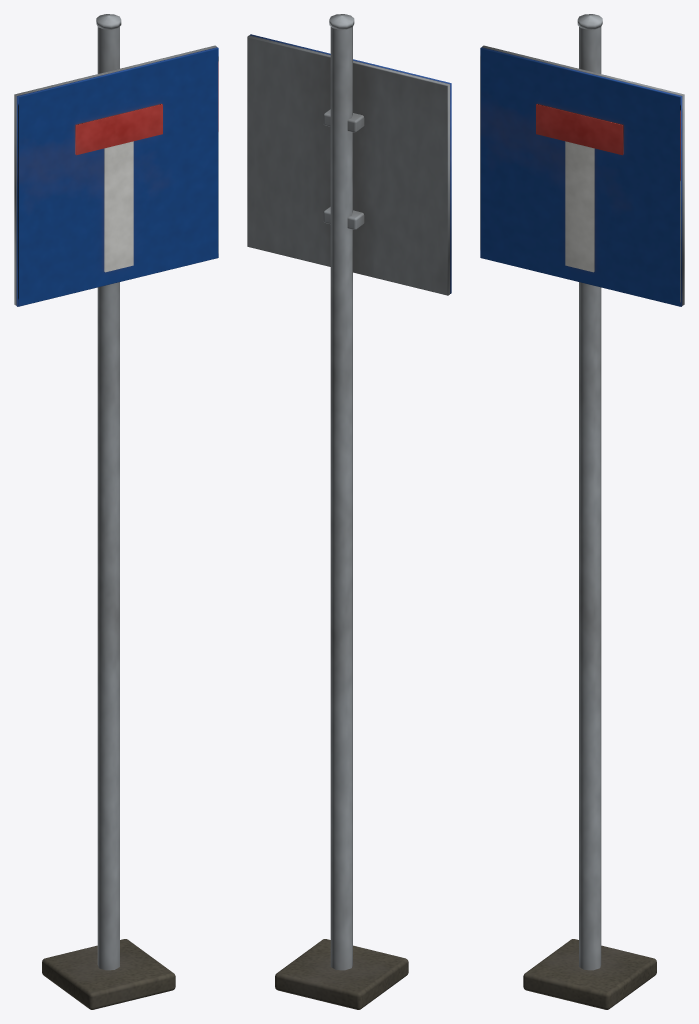
File: znak_slepa.glb
3 renders of one model, left to right at view 1: azimuth 30°, elevation 25°; view 2: azimuth 150°, elevation 25°; view 3: azimuth 330°, elevation 25°, orthographic.
Visible parts, largest first — view 1: Tarcza, Slupek; view 2: Slupek, Tarcza; view 3: Tarcza, Slupek.
Part boxes in pixels (left/top/right/bottom): Tarcza: left=16, top=47, right=218, bottom=306; Slupek: left=14, top=14, right=216, bottom=1009; Slupek: left=247, top=14, right=449, bottom=1009; Tarcza: left=250, top=34, right=451, bottom=293; Tarcza: left=480, top=47, right=682, bottom=306; Slupek: left=482, top=14, right=684, bottom=1009.
Bounding box in the file's own units: 0.604 × 2.78 × 0.26.
2 materials, 2 textured.
